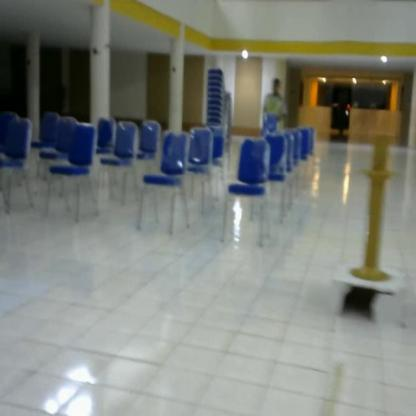pole: (348, 131, 410, 288)
